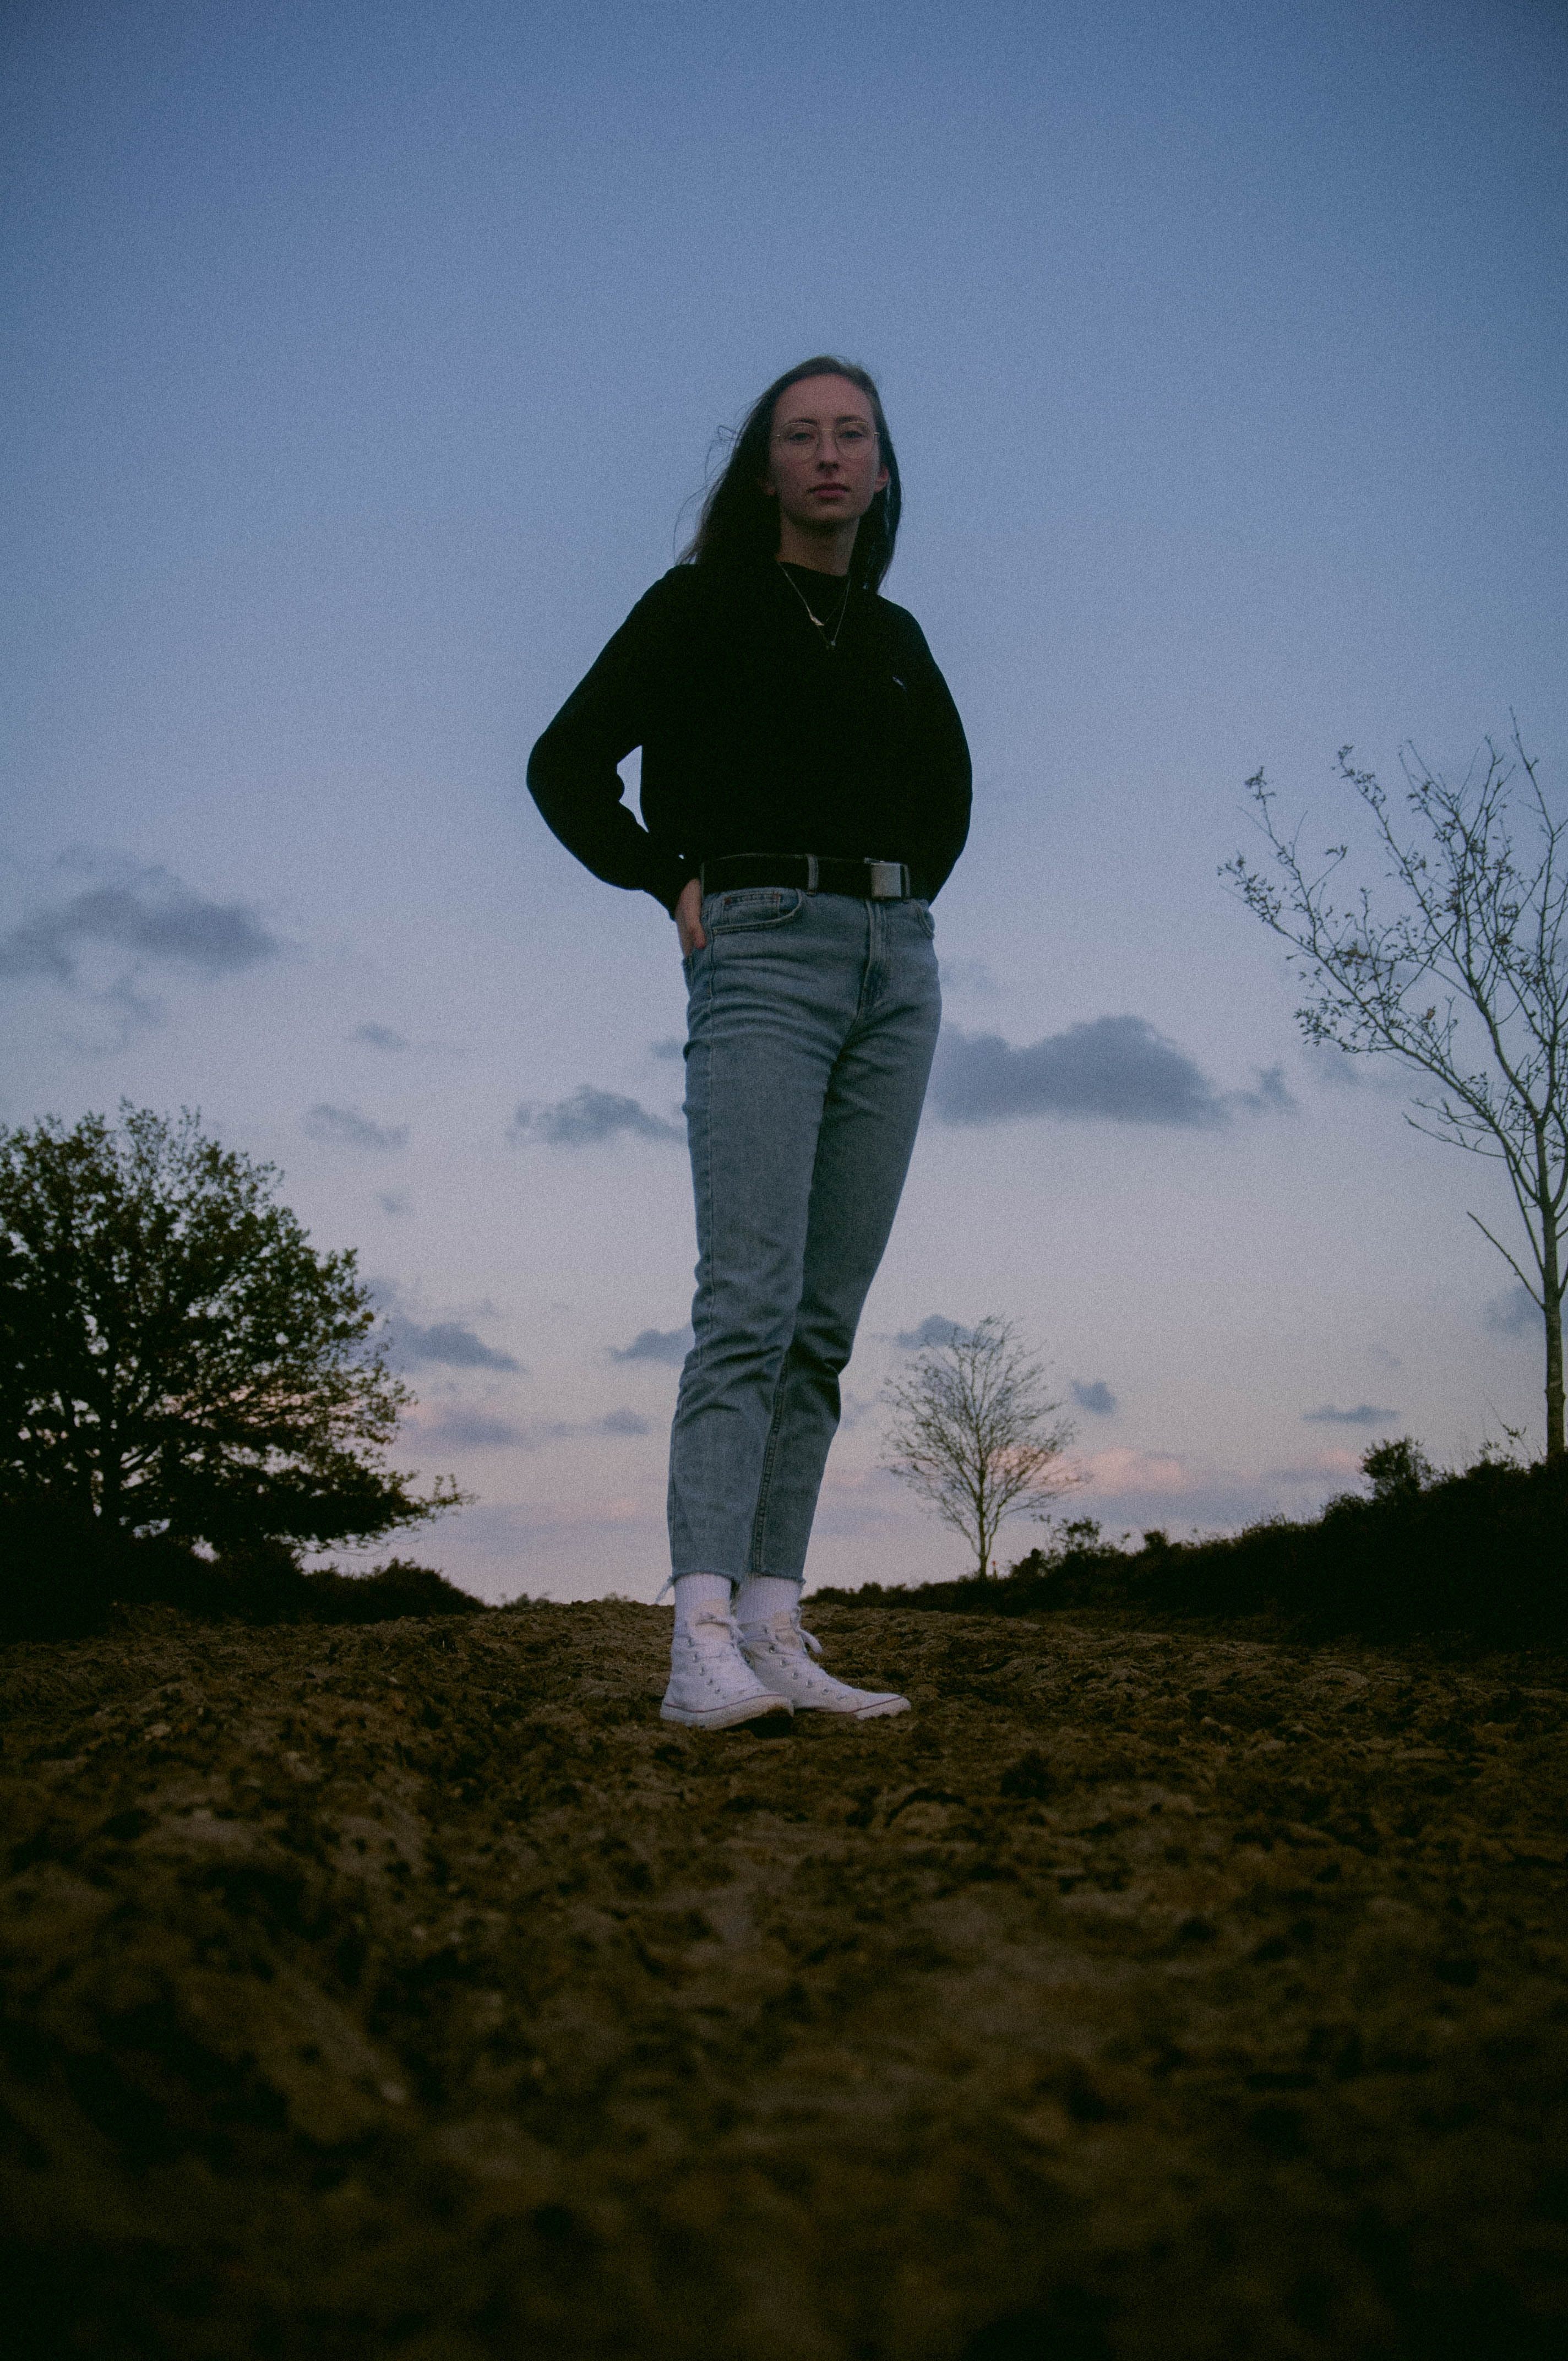person: (530, 357, 975, 1721)
